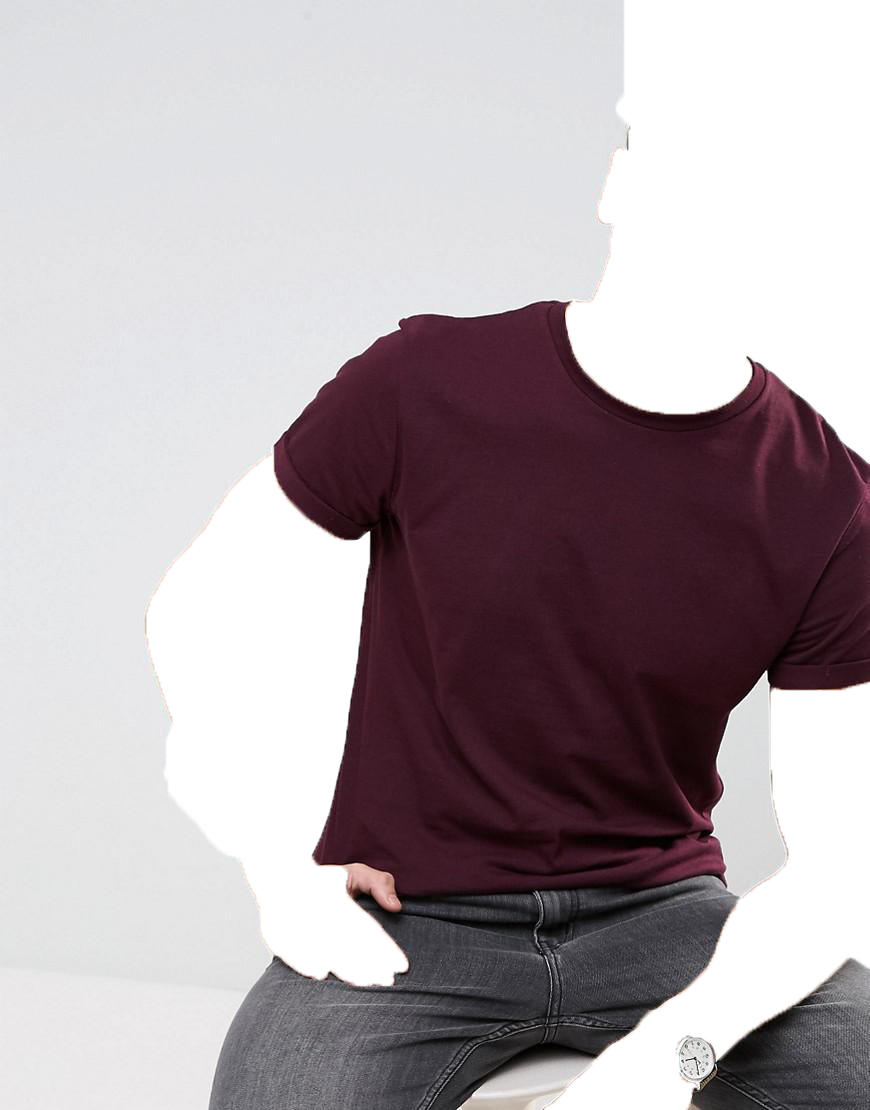teeshirt: (264, 281, 870, 905)
